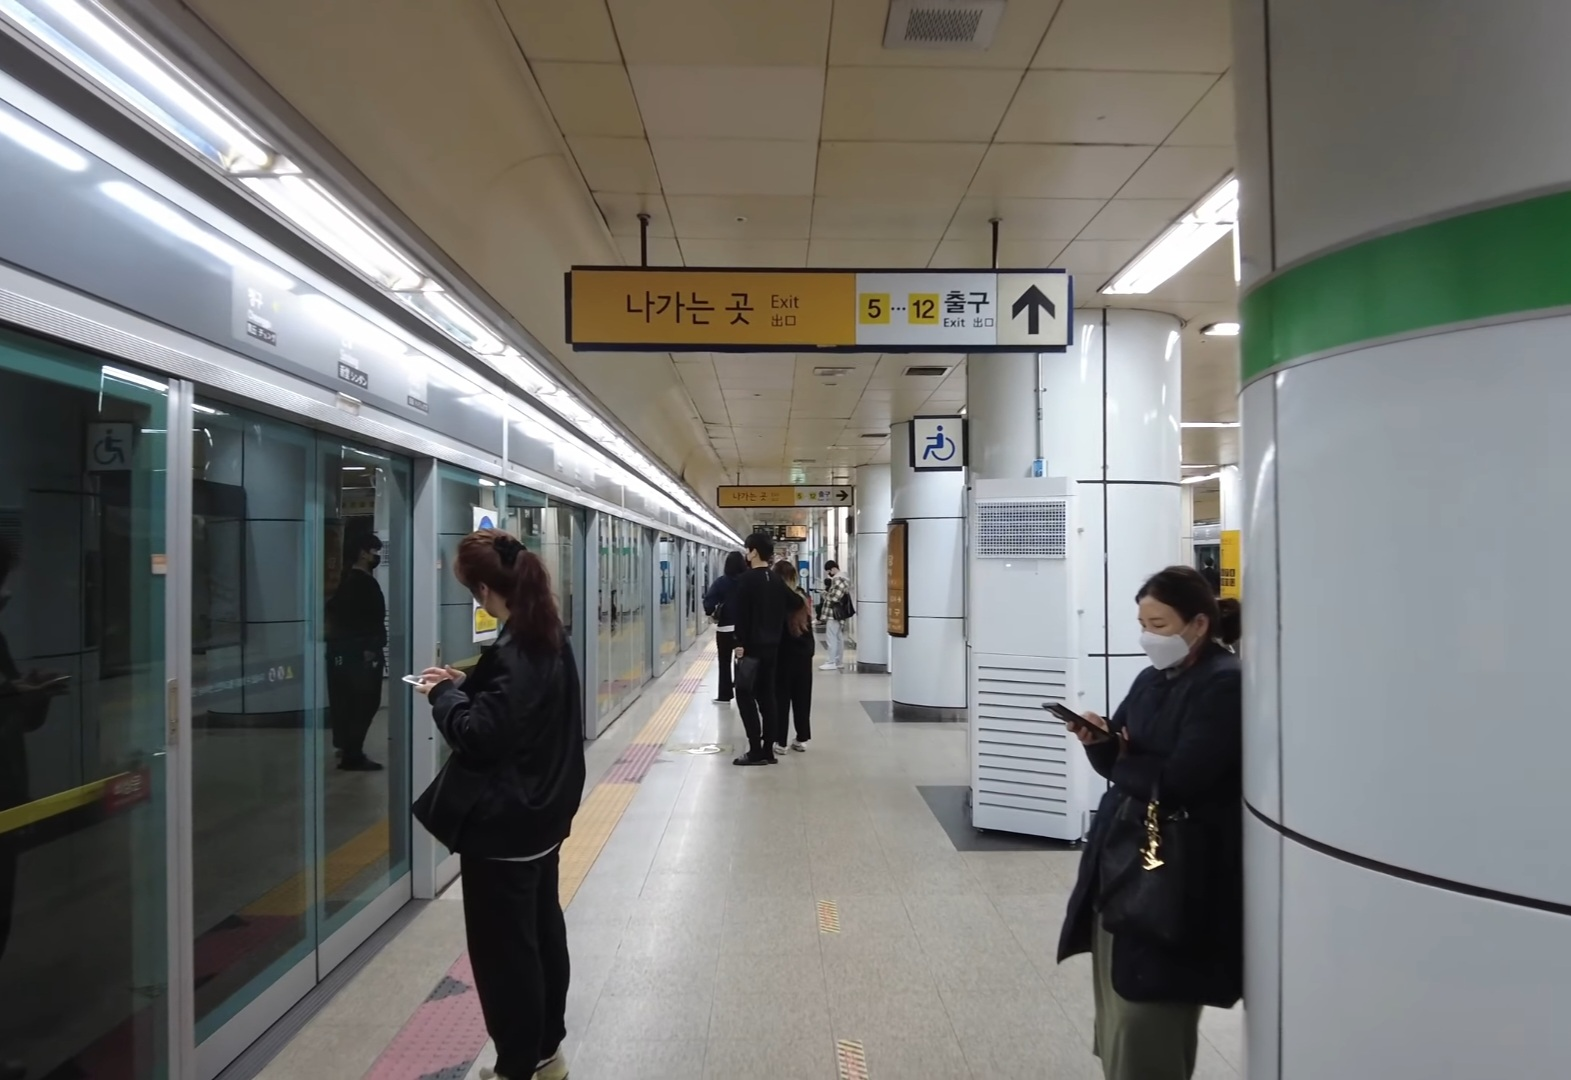signBoard: (561, 254, 1079, 364)
